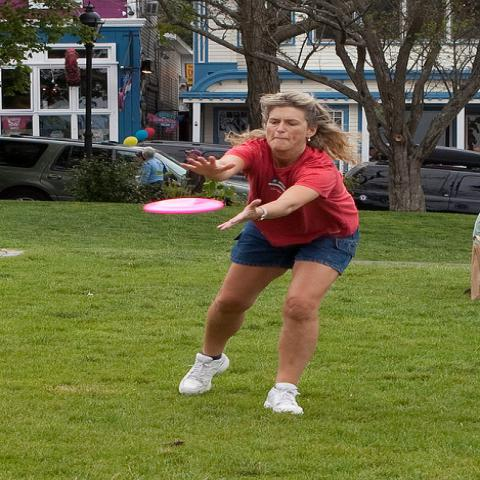car: (340, 144, 478, 212), (137, 140, 248, 183)
truck: (2, 134, 248, 204)
